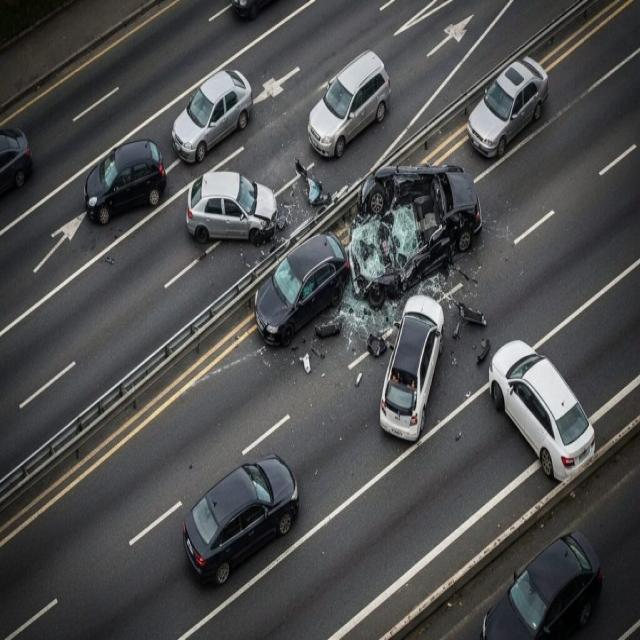crushed car: (350, 165, 481, 309)
